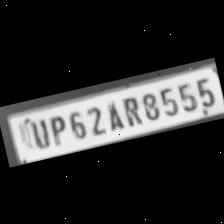2: (82, 100, 108, 138)
5: (192, 73, 218, 110), (155, 82, 181, 118), (174, 78, 200, 114)
6: (62, 106, 89, 142)
8: (136, 88, 162, 124)
A: (100, 97, 126, 133)
P: (43, 111, 70, 147)
R: (118, 92, 144, 128)
U: (22, 113, 49, 152)
